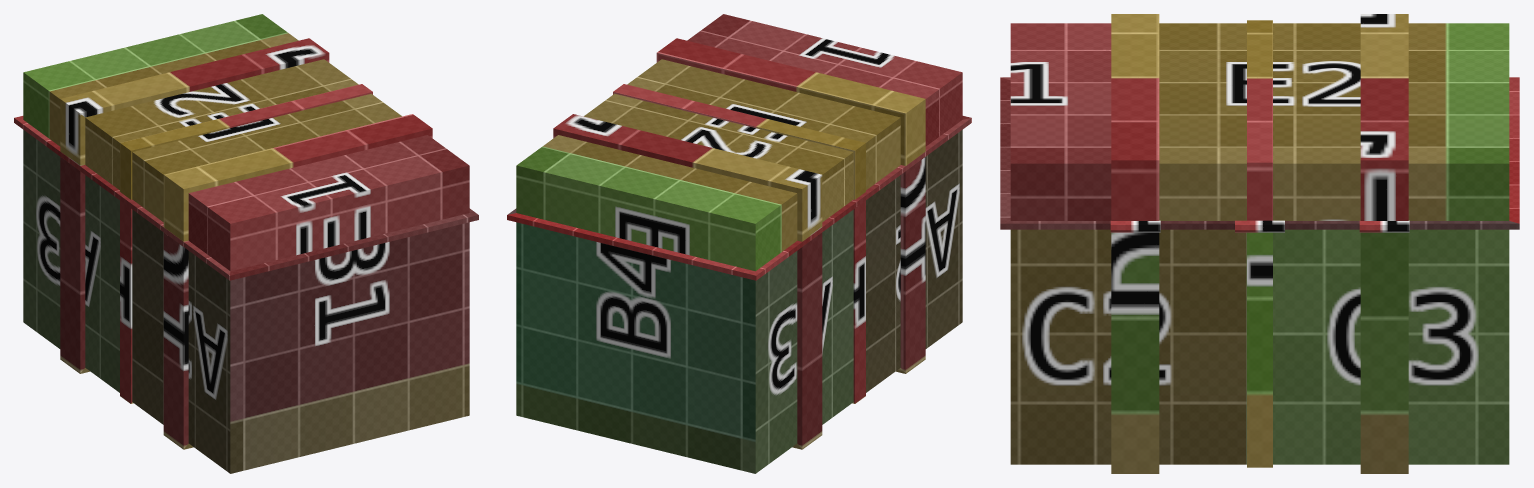
Rendered from bigBox_1953.glb.
3 renders of one model, left to right at view 1: azimuth 30°, elevation 25°; view 2: azimuth 150°, elevation 25°; view 3: azimuth 270°, elevation 25°, orthographic. The views are drawn at different scales.
Parts seen in each view (by area): view 1: BOX_BIG; view 2: BOX_BIG; view 3: BOX_BIG.
Part boxes in pixels (x1,y1,x2,y2): BOX_BIG: (14,14,478,473); BOX_BIG: (507,14,971,473); BOX_BIG: (1000,14,1519,473).
Size of the model in its own units: 1.06 by 1.04 by 1.56.
1 material, 1 textured.
